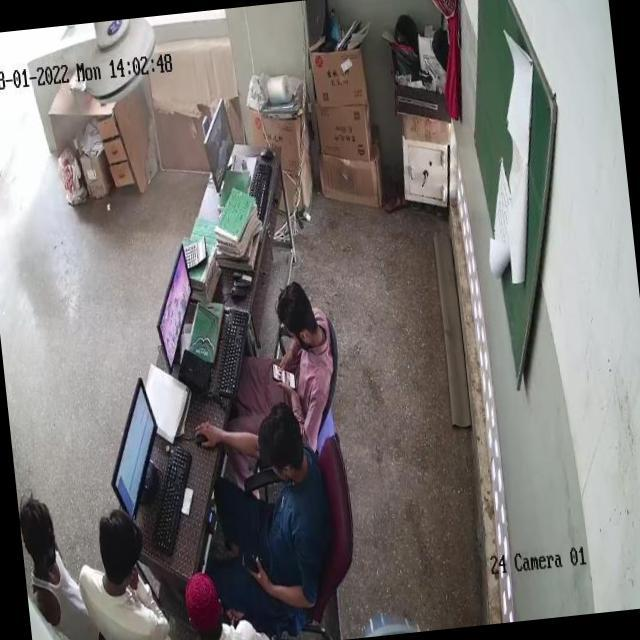person: (222, 401, 328, 594), (233, 276, 337, 422), (19, 489, 98, 640), (76, 514, 169, 640), (178, 557, 255, 640)
